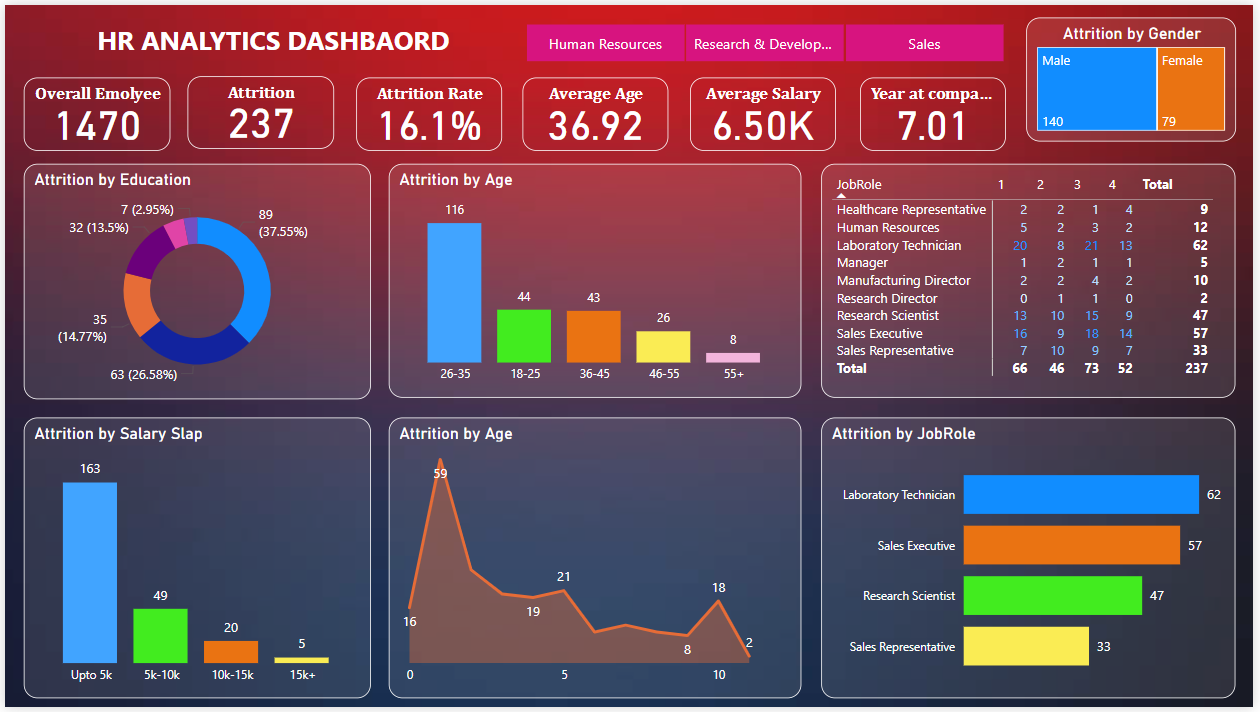

Layout of this report page (visuals, bound fields, positions):
{"tool":"powerbi","page":{"name":"Page 2","canvas":[1280,720],"ordinal":1},"visuals":[{"type":"card","title":"Overall Emolyee","fields":{"Values":["CountNonNull(HR_Analytics.EmpID)"]},"box":[19.5,74,150.6,75.3],"z":0},{"type":"card","title":"Attrition","fields":{"Values":["Sum(HR_Analytics.Attrition_count)"]},"box":[187,73.6,150,74],"z":1000},{"type":"card","title":"Attrition Rate","fields":{"Values":["HR_Analytics.Attrition Rate"]},"box":[359.7,74,149.4,75.3],"z":2000},{"type":"card","title":"Average Age","fields":{"Values":["Avg(HR_Analytics.Age)"]},"box":[531.2,74,149.4,75.3],"z":3000},{"type":"card","title":"Average Salary","fields":{"Values":["Avg(HR_Analytics.MonthlyIncome)"]},"box":[702.6,74,149.4,75.3],"z":4000},{"type":"card","title":"Year at company","fields":{"Values":["Avg(HR_Analytics.YearsAtCompany)"]},"box":[876.6,74,149.4,75.3],"z":5000},{"type":"donutChart","title":"Attrition by Education","fields":{"Category":["HR_Analytics.EducationField"],"Y":["Sum(HR_Analytics.Attrition_count)"]},"box":[19.5,162.3,355.8,241.6],"z":6000},{"type":"columnChart","title":"Attrition by Age","fields":{"Category":["HR_Analytics.AgeGroup"],"Y":["Sum(HR_Analytics.Attrition_count)"]},"box":[393.5,162.3,423.4,240.3],"z":7000},{"type":"pivotTable","fields":{"Rows":["HR_Analytics.JobRole"],"Columns":["HR_Analytics.JobSatisfaction"],"Values":["Sum(HR_Analytics.Attrition_count)"]},"box":[837.7,162.3,424.7,240.3],"z":8000},{"type":"columnChart","title":"Attrition by Salary Slap","fields":{"Category":["HR_Analytics.SalarySlab"],"Y":["Sum(HR_Analytics.Attrition_count)"]},"box":[19.5,423.4,355.8,288.3],"z":9000},{"type":"barChart","title":"Attrition by JobRole","fields":{"Category":["HR_Analytics.JobRole"],"Y":["Sum(HR_Analytics.Attrition_count)"]},"box":[837.7,423.4,424.7,288.3],"z":10000},{"type":"areaChart","title":"Attrition by Age","fields":{"Category":["HR_Analytics.YearsAtCompany"],"Y":["Sum(HR_Analytics.Attrition_count)"]},"box":[393.5,423.4,423.4,288.3],"z":11000},{"type":"treemap","title":"Attrition by Gender","fields":{"Group":["HR_Analytics.Gender"],"Values":["Sum(HR_Analytics.Attrition_count)"]},"box":[1048.1,13,215.6,127.3],"z":12000},{"type":"slicer","fields":{"Values":["HR_Analytics.Department"]},"box":[509.1,13,539,51.9],"z":13000},{"type":"textbox","box":[19.5,13,512,51.9],"z":14000}]}

Visuals, with their boxes in screenshot pixels (x1, y1, x2, y2), scaled from the page's 1280x720 canvas onto the 1260x712 screenshot:
"Overall Emolyee" card: 19, 73, 167, 148
"Attrition" card: 184, 73, 332, 146
"Attrition Rate" card: 354, 73, 501, 148
"Average Age" card: 523, 73, 670, 148
"Average Salary" card: 692, 73, 839, 148
"Year at company" card: 863, 73, 1010, 148
"Attrition by Education" donutChart: 19, 160, 369, 399
"Attrition by Age" columnChart: 387, 160, 804, 398
pivotTable - HR_Analytics.JobRole x HR_Analytics.JobSatisfaction: 825, 160, 1243, 398
"Attrition by Salary Slap" columnChart: 19, 419, 369, 704
"Attrition by JobRole" barChart: 825, 419, 1243, 704
"Attrition by Age" areaChart: 387, 419, 804, 704
"Attrition by Gender" treemap: 1032, 13, 1244, 139
slicer - HR_Analytics.Department: 501, 13, 1032, 64
textbox: 19, 13, 523, 64
